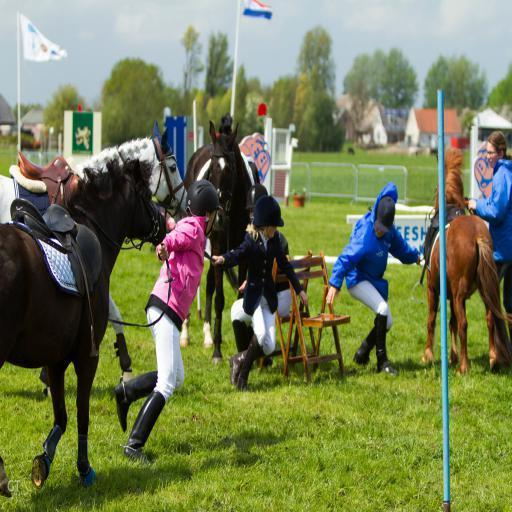horse: (0, 156, 169, 500), (0, 120, 188, 397), (420, 142, 512, 374), (178, 118, 260, 366)
